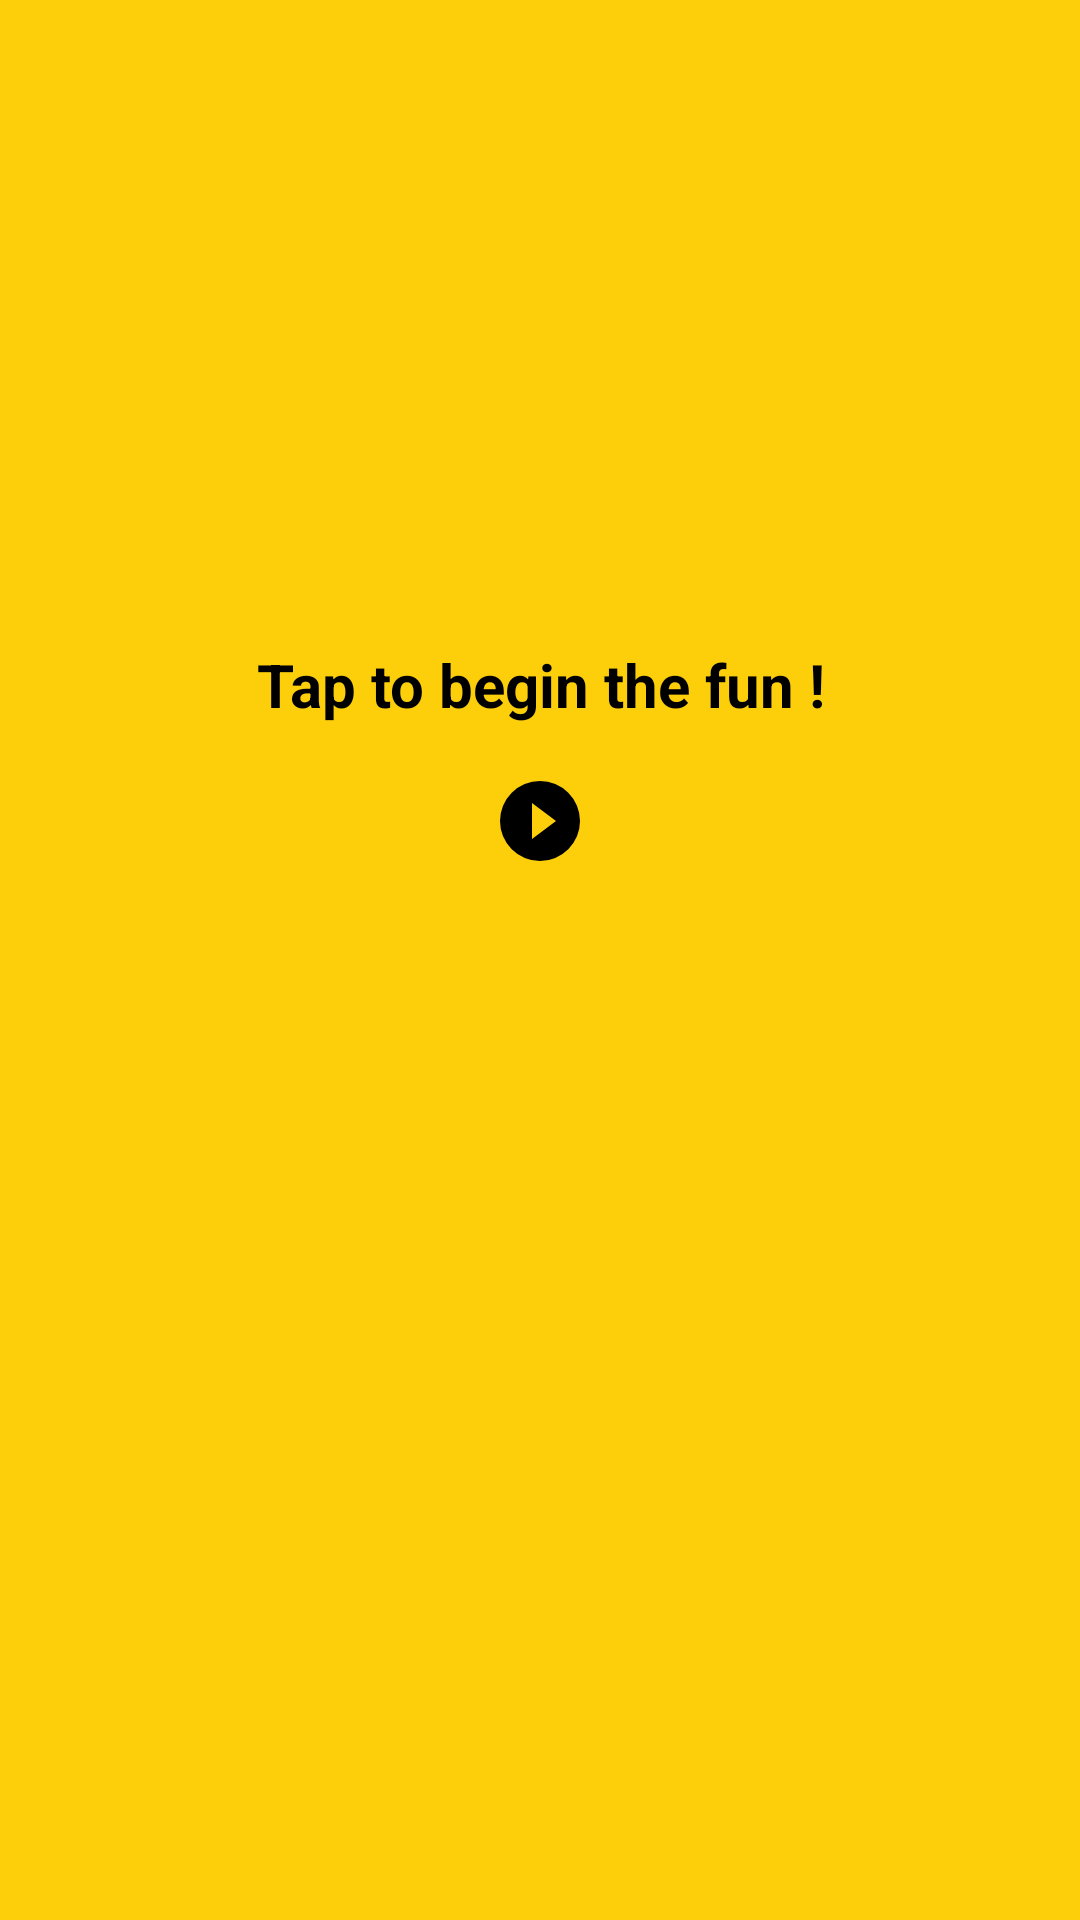

Icons on this 1080*1920 Android screen, each with its box as rect(x1, y1, x2, y2):
play circle: rect(500, 781, 580, 861)
